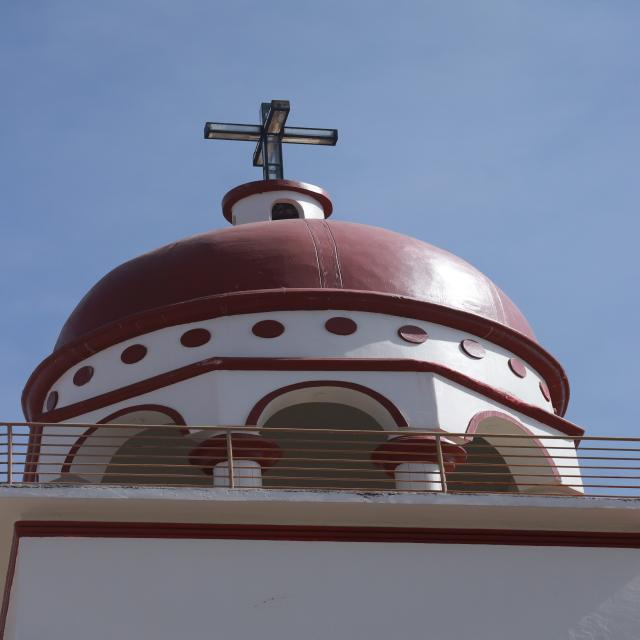CUPULA: (0, 91, 606, 491)
colonial-architecture-: (0, 31, 634, 612)
